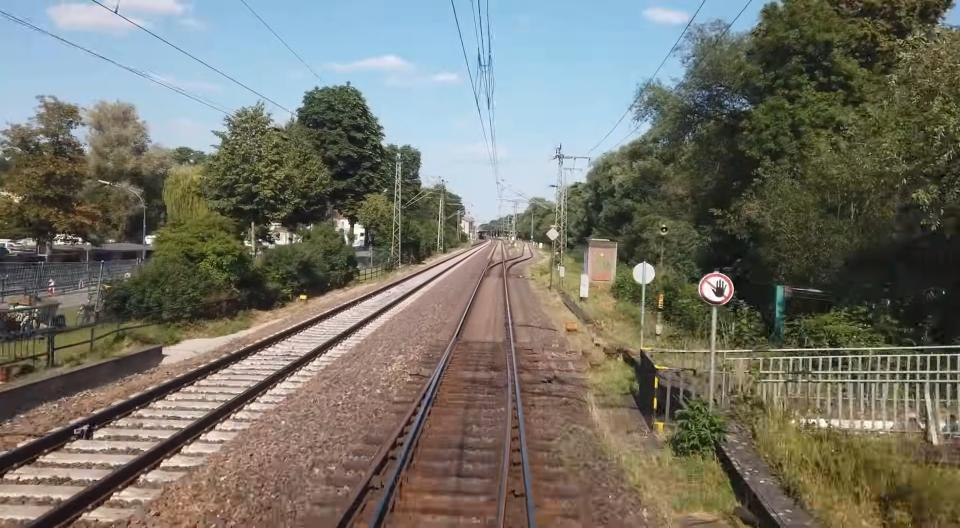Plant: (656, 397, 746, 528), (589, 396, 651, 502), (588, 348, 636, 407)
